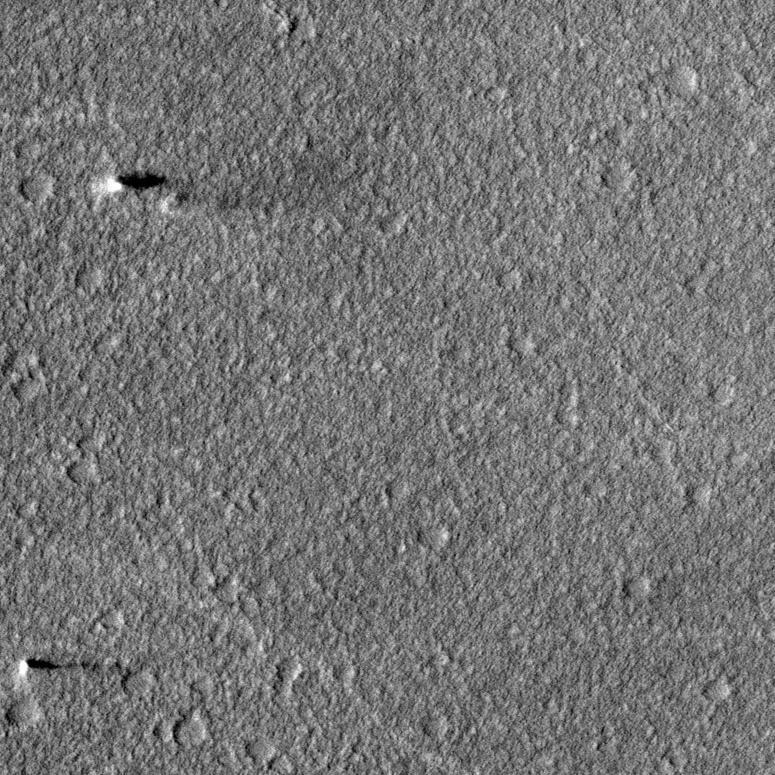dust_devil: (17, 658, 102, 676), (105, 169, 168, 193)
